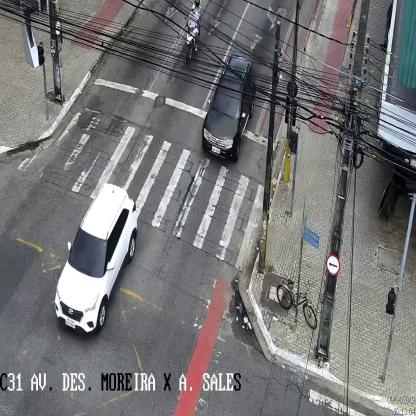bicycle: (276, 277, 316, 330)
car: (54, 182, 138, 335), (203, 55, 256, 158)
motorbike: (186, 0, 200, 64)
